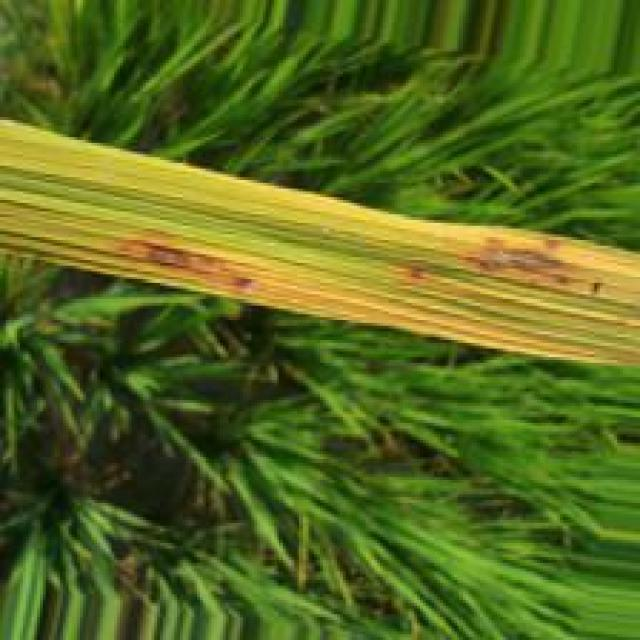Leaf_Blast: (451, 225, 634, 295), (123, 240, 252, 300)
